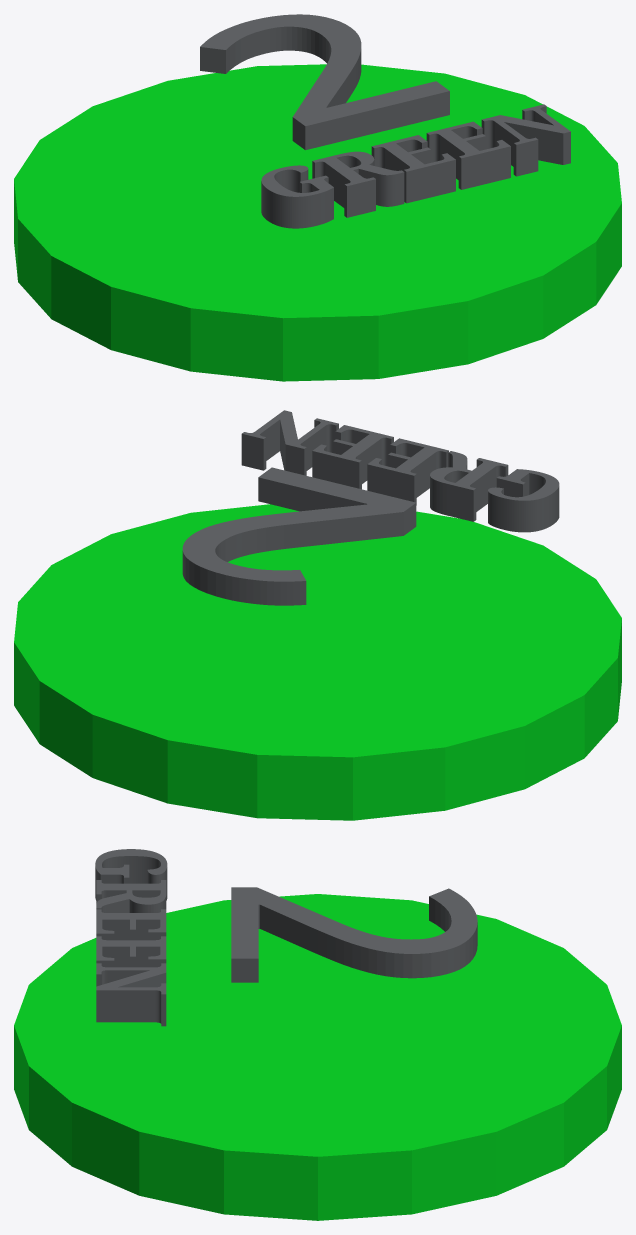
Rendered from 2green.gltf.
3 views of the same model, one above another, from view 1: azimuth 30°, elevation 25°; view 2: azimuth 150°, elevation 25°; view 3: azimuth 270°, elevation 25° (orthographic).
Visible parts, largest first — view 1: Mesh_Mesh_head_geo001_lambert2SG001; view 2: Mesh_Mesh_head_geo001_lambert2SG001; view 3: Mesh_Mesh_head_geo001_lambert2SG001.
Part boxes in pixels (x1,y1,x2,y2): Mesh_Mesh_head_geo001_lambert2SG001: (14, 14, 621, 381); Mesh_Mesh_head_geo001_lambert2SG001: (14, 410, 621, 820); Mesh_Mesh_head_geo001_lambert2SG001: (14, 849, 621, 1220).
Size of the model in its own units: 176 by 54.56 by 172.
